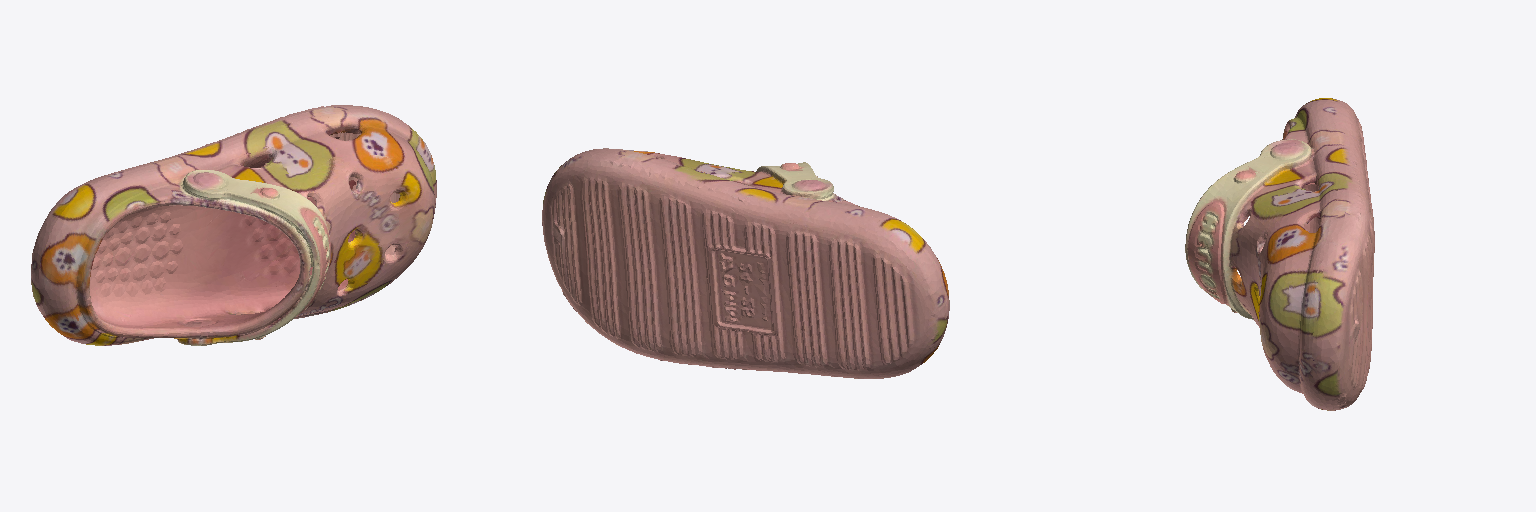
3 renders of one model, left to right at view 1: azimuth 30°, elevation 25°; view 2: azimuth 150°, elevation 25°; view 3: azimuth 270°, elevation 25°, orthographic.
Size of the model in its own units: 197 by 92.98 by 81.37.
Materials: 1 (1 with a texture image).